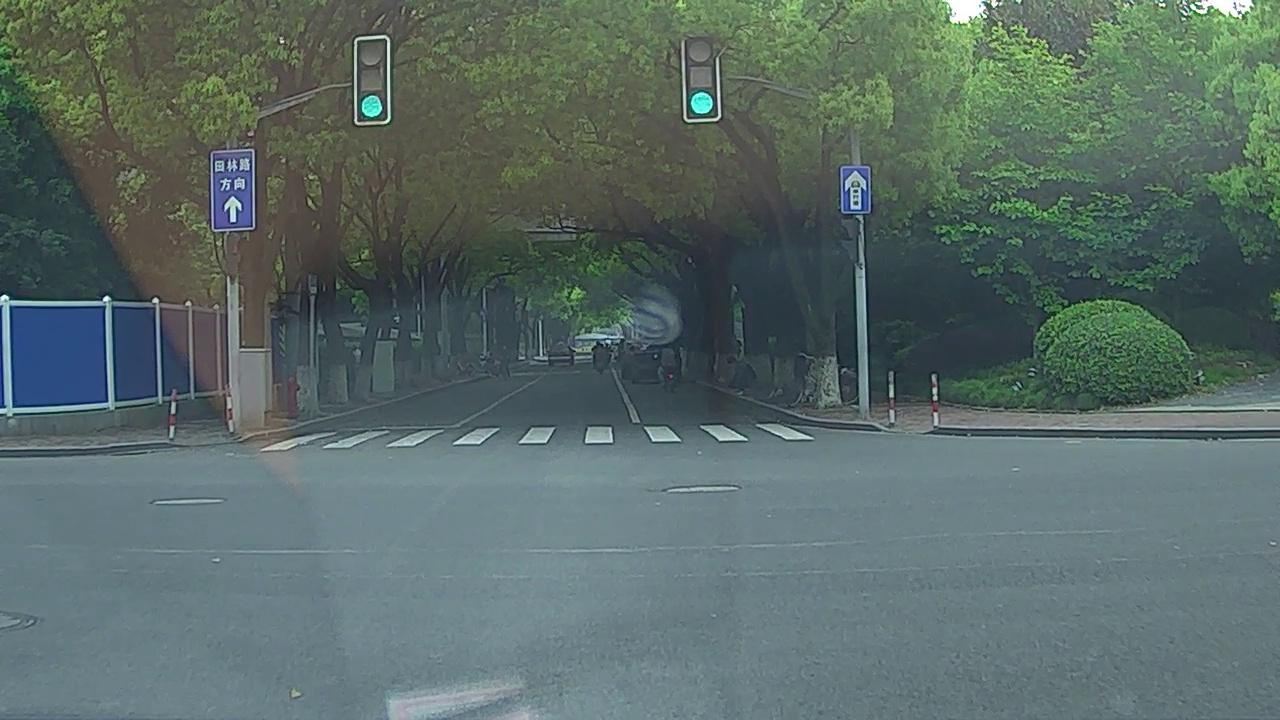traffic_light: (680, 31, 722, 121), (353, 37, 390, 125)
